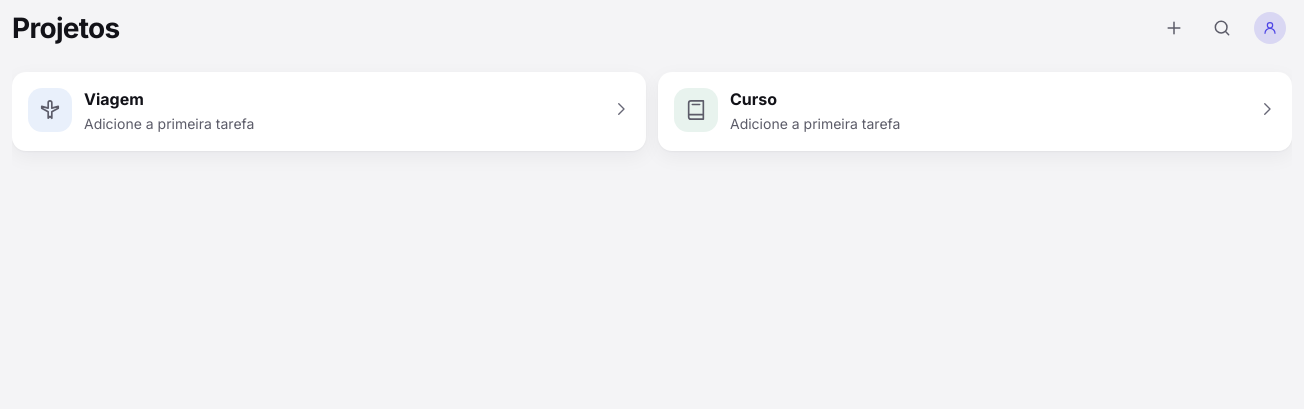
Test case: vazio não tem barra; concluído mantém captura e histórico com reabertura
Later steps or results of the test are not shown.
Click the button "Viagem Adicione a primeira tarefa": [50, 110] box [12,72,646,151]
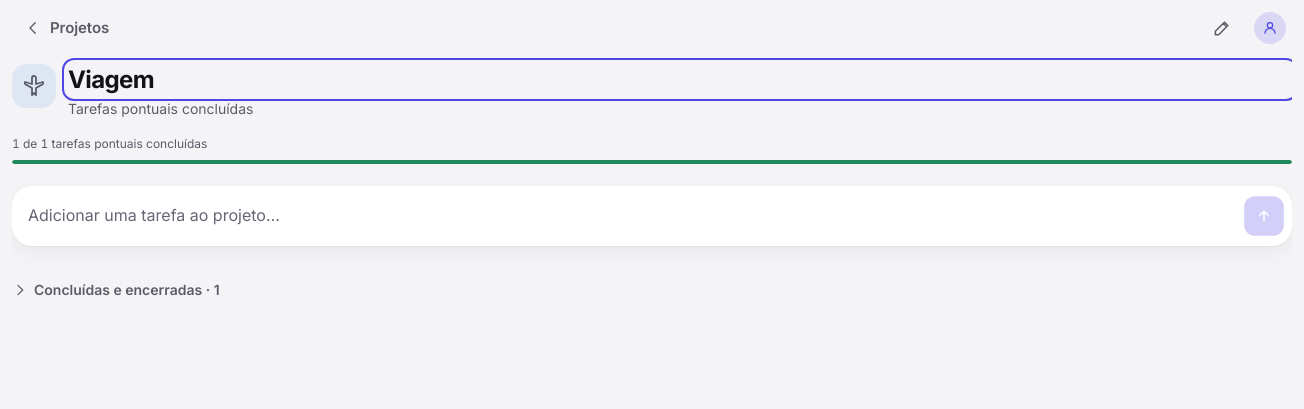
Expected: the text "Tarefas pontuais concluídas" is shown, [68,100,254,117]
Expected: the form is shown, [12,186,1292,246]
Click the button "Concluídas e encerradas · 1": [116, 290] box [12,268,220,312]
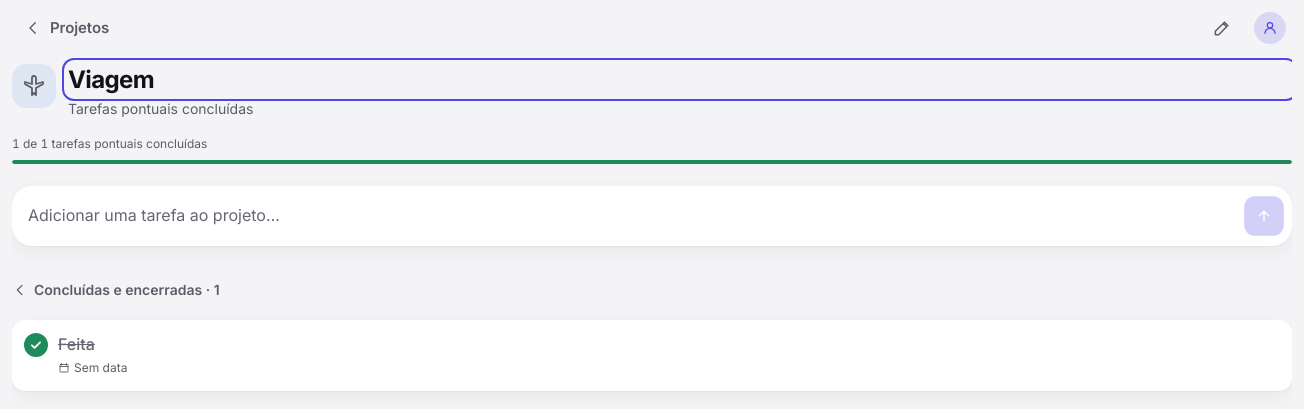
Click the checkbox named "Reabrir: Feita": [36, 345] box [24,333,48,357]
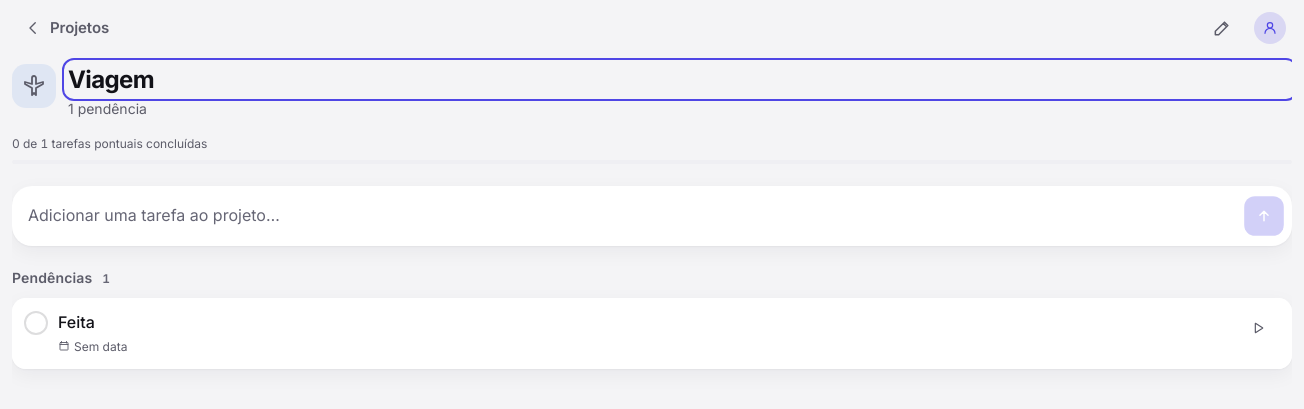
Expected: the text "1 pendência" is shown, [68,100,147,117]
